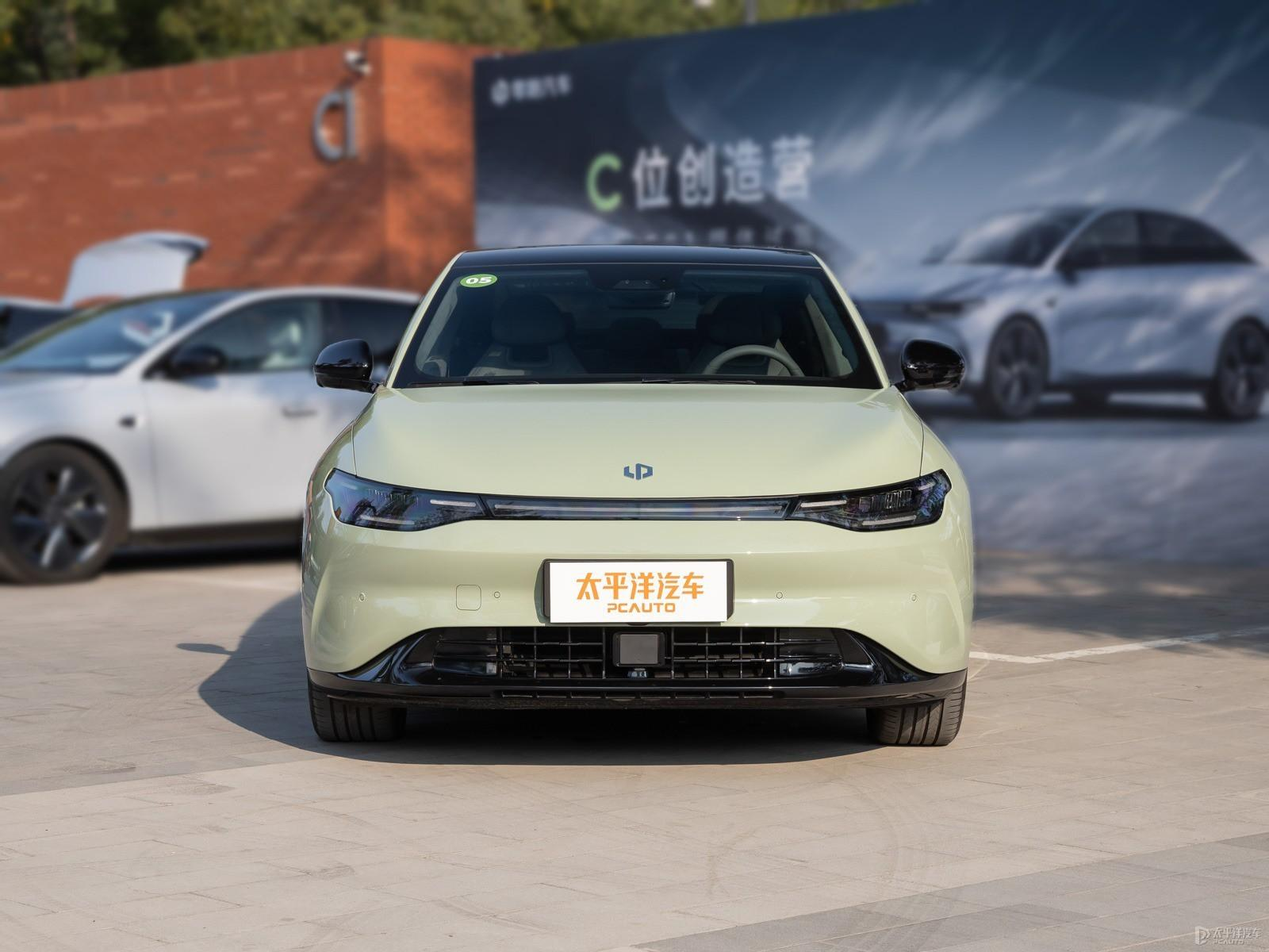LEAPMOTOR: (623, 462, 654, 482)
